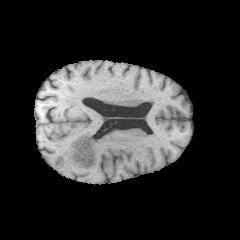glioma: (59, 128, 108, 175)
